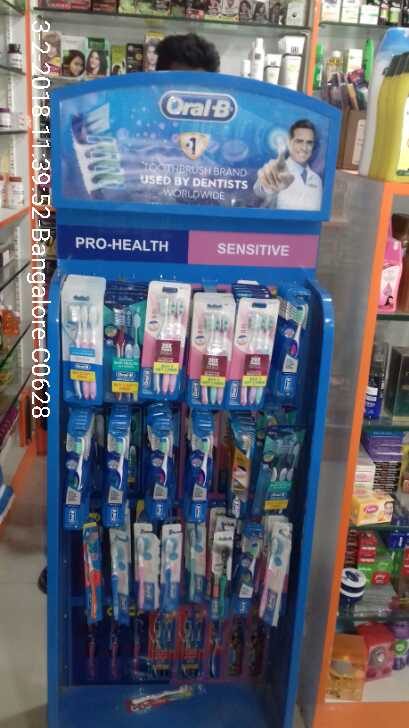oralb: (58, 278, 315, 416), (58, 415, 306, 525)
